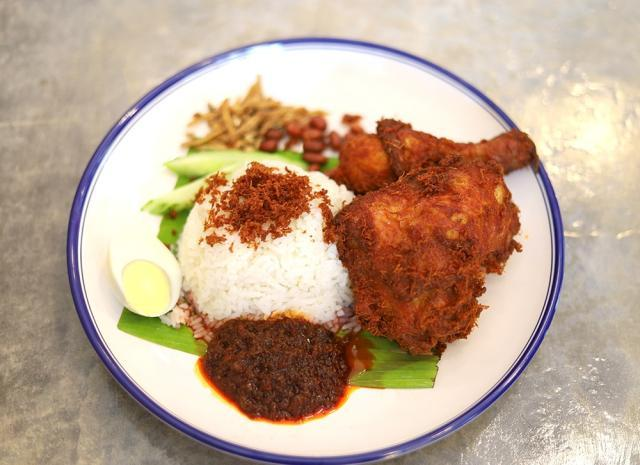Anchovies: (186, 86, 310, 151)
Boiled-Egg: (108, 228, 184, 319)
Cucumber: (141, 151, 311, 217)
Fried-Chicken: (339, 119, 534, 357)
Peanuts: (261, 117, 340, 171)
Rice: (160, 170, 357, 332)
Sambal: (206, 321, 347, 420)
